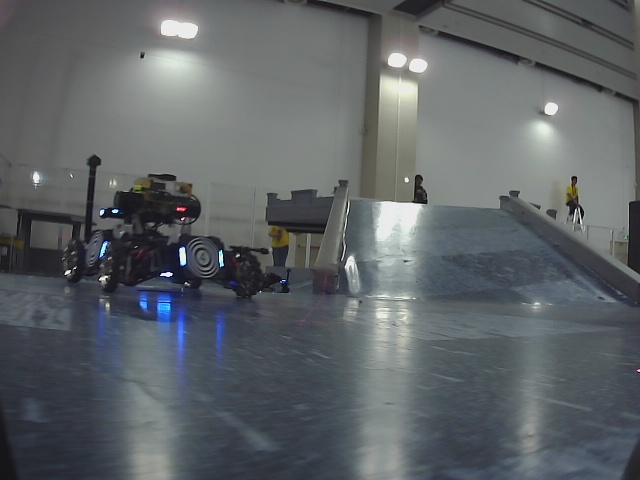pair: (178, 246, 223, 268)
